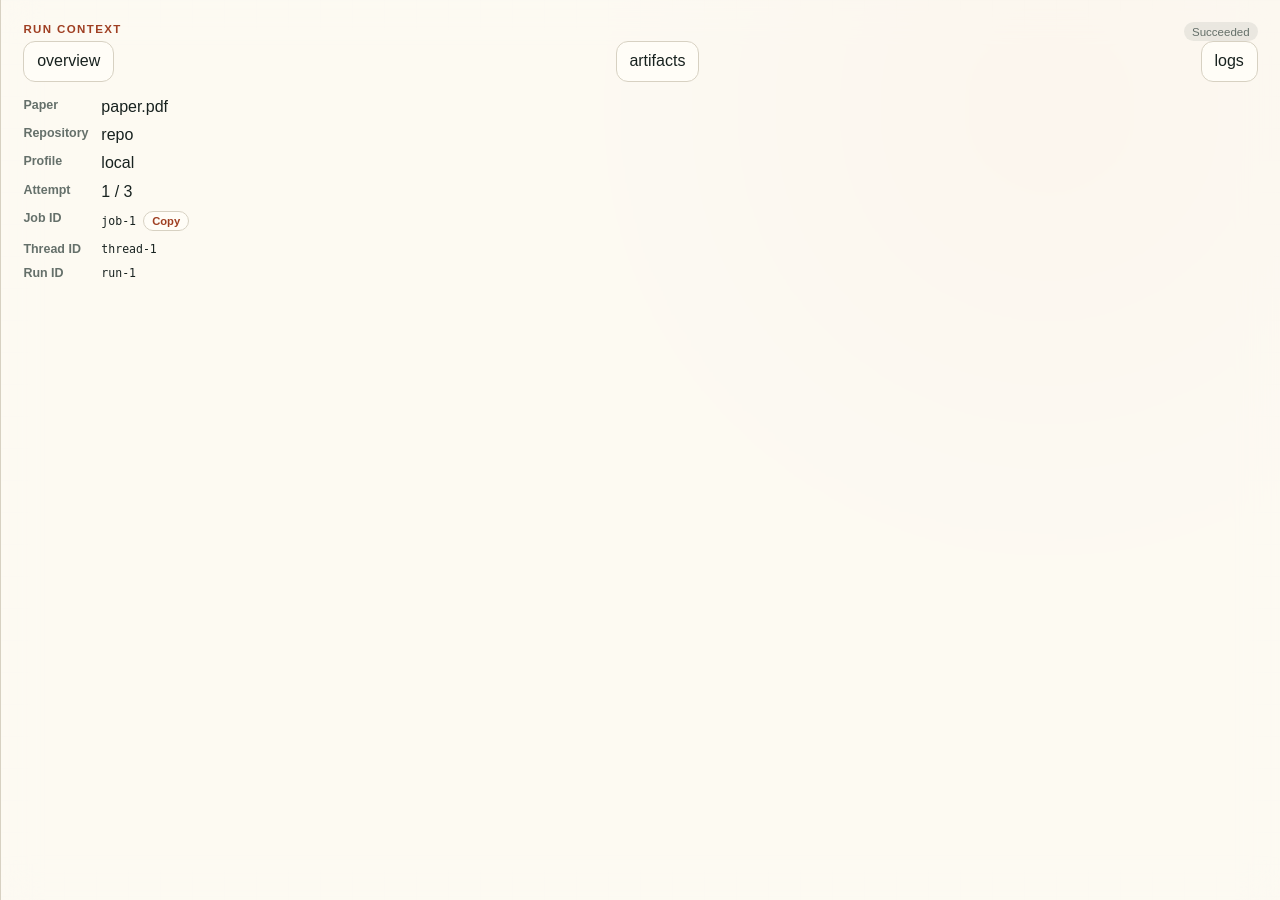
Scenario: artifact delivery › does not offer preview when the server disables it
What coordinates should you click on to do the following:
click the button "artifacts"
I would click on:
 (657, 61)
Its box is [616,41,699,82].
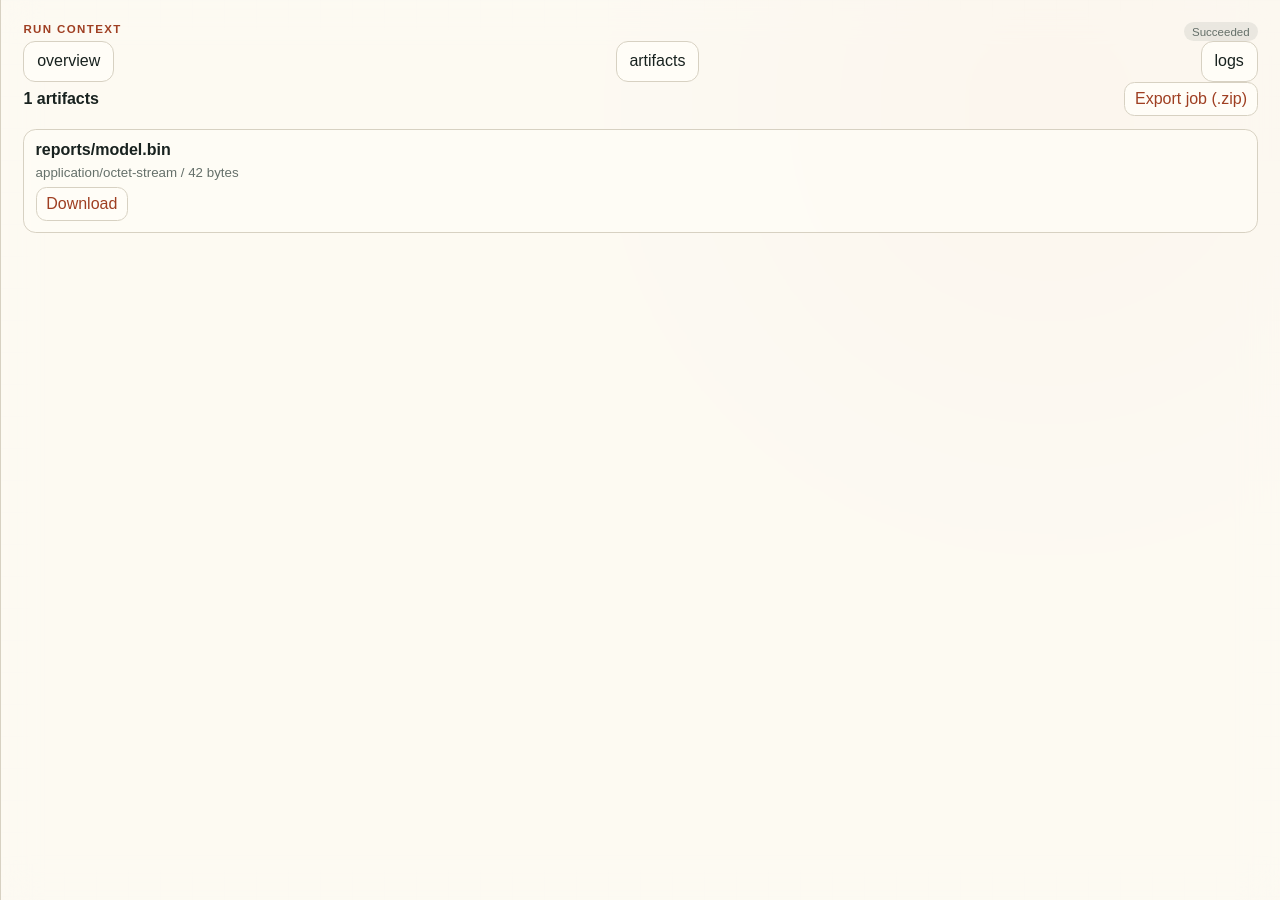
Expected: the text "reports/model.bin" is shown, [36,141,171,158]
Expected: the link "Download" is shown, [36,187,128,221]
